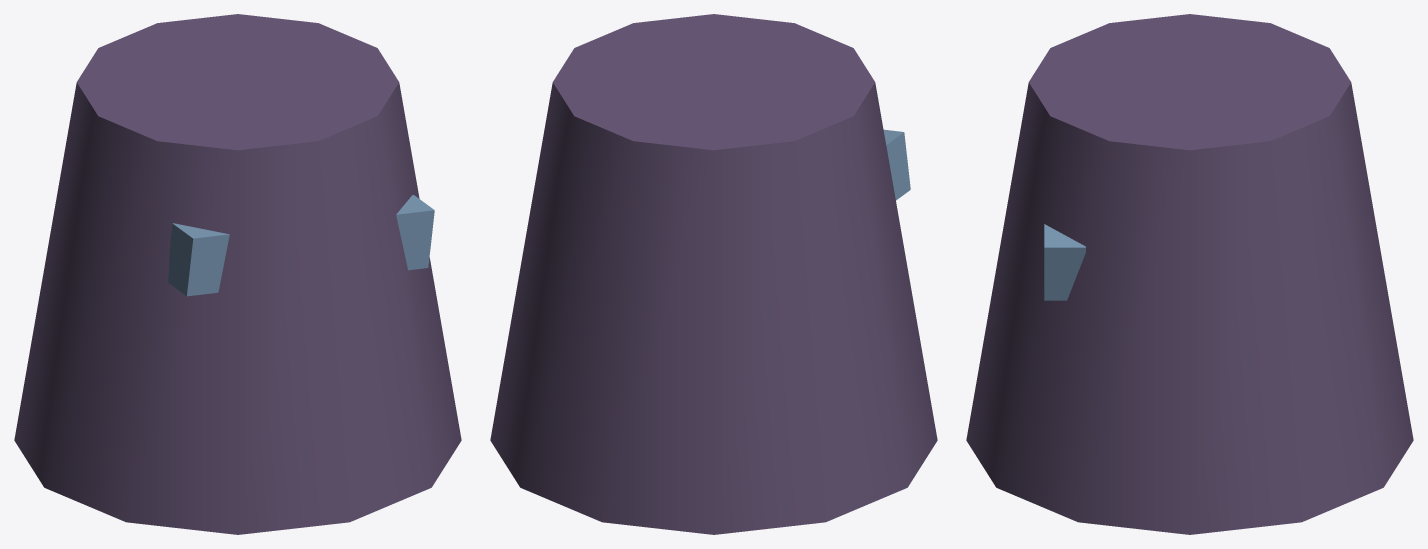
Rendered from traveler_01_outfit.glb.
The picture shows the model from 3 angles, left to right: view 1: azimuth 30°, elevation 25°; view 2: azimuth 150°, elevation 25°; view 3: azimuth 270°, elevation 25°; orthographic projection.
Visible parts, largest first — view 1: outfit_torso, outfit_trim; view 2: outfit_torso, outfit_trim; view 3: outfit_torso, outfit_trim.
Part boxes in pixels (box(x1,y1,x2,y2)): outfit_torso: box(14, 14, 461, 534); outfit_trim: box(168, 195, 434, 296); outfit_torso: box(490, 14, 937, 534); outfit_trim: box(883, 129, 910, 200); outfit_torso: box(966, 14, 1413, 534); outfit_trim: box(1044, 224, 1085, 300).
Size of the model in its own units: 0.86 by 0.76 by 0.86.
